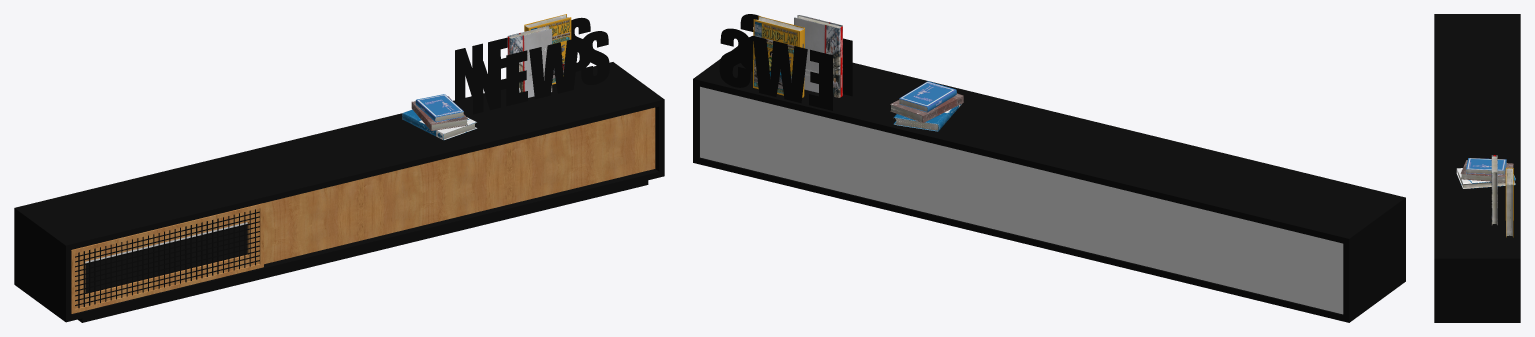
The model's file is TV-unit-2.FBX.
3 views of the same model, side by side, from view 1: azimuth 30°, elevation 25°; view 2: azimuth 150°, elevation 25°; view 3: azimuth 270°, elevation 25° (orthographic). The views are drawn at different scales.
Parts seen in each view (by area): view 1: TV-1-1, TV-1-2, Shape002, TV-1-8, TV-1-5, TV-1-11, TV-1-4, TV-1-9, AI29_05_book_035_obj_054, AI29_05_book_035_obj_168, AI29_05_book_035_obj_061, AI29_05_book_035_obj_058 (+1 smaller); view 2: TV-1-3, TV-1-1, TV-1-9, AI29_05_book_035_obj_054, AI29_05_book_035_obj_168, TV-1-8, AI29_05_book_035_obj_061, TV-1-10, AI29_05_book_035_obj_057; view 3: TV-1-1, TV-1-10, AI29_05_book_035_obj_169, AI29_05_book_035_obj_061, AI29_05_book_035_obj_060, AI29_05_book_035_obj_057, AI29_05_book_035_obj_058, AI29_05_book_035_obj_059, AI29_05_book_035_obj_056, AI29_05_book_035_obj_054, AI29_05_book_035_obj_168, AI29_05_book_035_obj_055.
Boxes of the visible parts, bbox=[...] form: TV-1-1: bbox=[14, 62, 664, 322]; TV-1-2: bbox=[263, 107, 655, 264]; Shape002: bbox=[75, 209, 259, 308]; TV-1-8: bbox=[473, 31, 609, 114]; TV-1-5: bbox=[75, 208, 259, 308]; TV-1-11: bbox=[78, 180, 648, 322]; TV-1-4: bbox=[71, 203, 263, 313]; TV-1-9: bbox=[455, 17, 590, 100]; AI29_05_book_035_obj_054: bbox=[507, 26, 552, 97]; AI29_05_book_035_obj_168: bbox=[524, 14, 571, 84]; AI29_05_book_035_obj_061: bbox=[415, 94, 463, 122]; AI29_05_book_035_obj_058: bbox=[402, 109, 477, 140]; TV-1-3: bbox=[700, 86, 1343, 314]; TV-1-1: bbox=[693, 46, 1405, 322]; TV-1-9: bbox=[719, 28, 832, 110]; AI29_05_book_035_obj_054: bbox=[794, 15, 842, 97]; AI29_05_book_035_obj_168: bbox=[753, 16, 804, 97]; TV-1-8: bbox=[740, 14, 852, 96]; AI29_05_book_035_obj_061: bbox=[899, 81, 956, 112]; TV-1-10: bbox=[738, 73, 878, 117]; AI29_05_book_035_obj_057: bbox=[890, 93, 963, 122]; TV-1-1: bbox=[1434, 14, 1520, 322]; TV-1-10: bbox=[1488, 197, 1518, 243]; AI29_05_book_035_obj_169: bbox=[1506, 168, 1512, 236]; AI29_05_book_035_obj_061: bbox=[1466, 158, 1506, 174]; AI29_05_book_035_obj_060: bbox=[1492, 156, 1497, 224]; AI29_05_book_035_obj_057: bbox=[1460, 160, 1513, 182]; AI29_05_book_035_obj_058: bbox=[1456, 168, 1515, 188]; AI29_05_book_035_obj_059: bbox=[1457, 171, 1514, 188]; AI29_05_book_035_obj_056: bbox=[1461, 166, 1512, 181]; AI29_05_book_035_obj_054: bbox=[1491, 155, 1497, 225]; AI29_05_book_035_obj_168: bbox=[1505, 167, 1513, 237]; AI29_05_book_035_obj_055: bbox=[1466, 162, 1506, 174].
Size of the model in its own units: 335 by 79.11 by 50.
